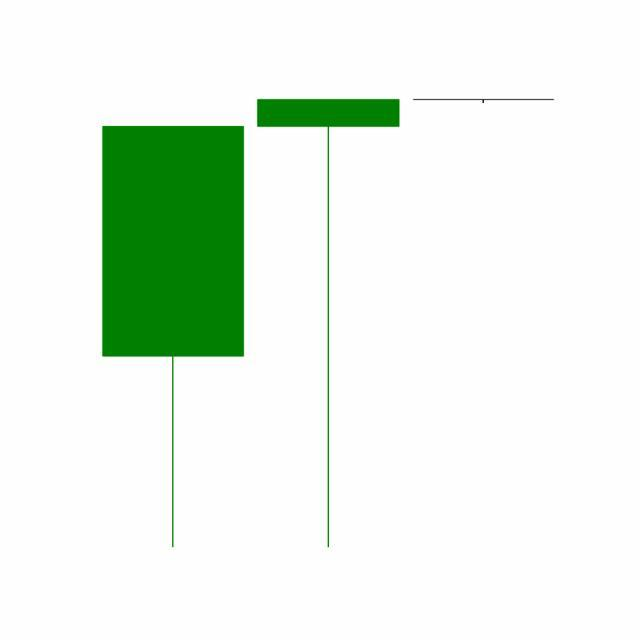Hanging Man: (250, 95, 407, 553)
